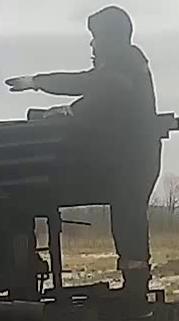gloves: (3, 72, 44, 95)
vest: (83, 50, 154, 205)
